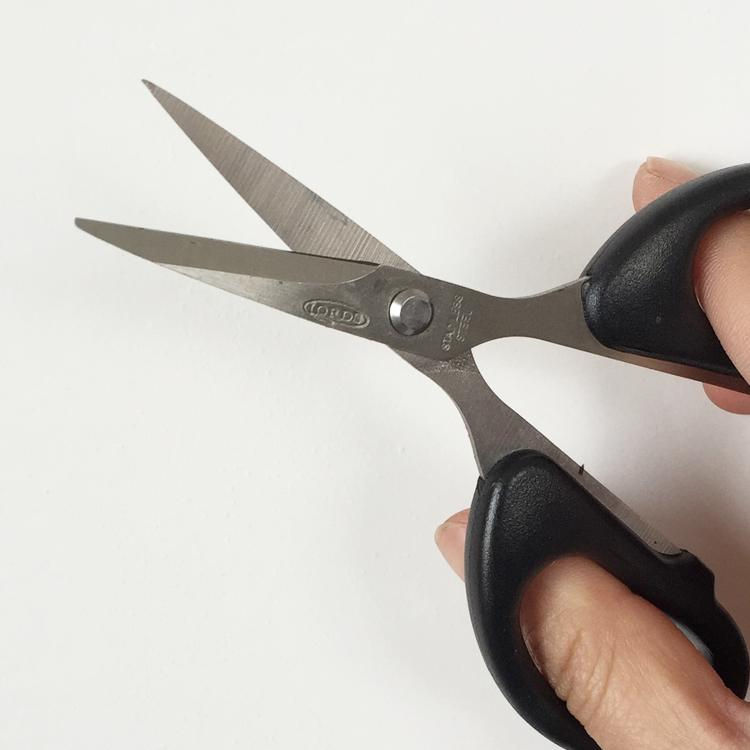scissor: (107, 124, 750, 692)
